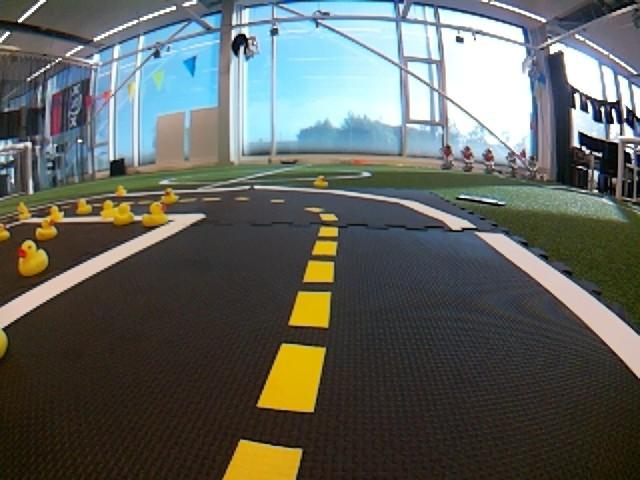Duckies: (17, 241, 47, 276), (142, 204, 170, 226), (112, 204, 135, 223), (37, 221, 57, 240), (100, 201, 120, 219), (160, 188, 178, 204), (45, 208, 63, 222), (75, 200, 91, 213), (312, 175, 328, 188), (0, 223, 9, 241), (18, 209, 32, 220), (116, 186, 127, 196), (16, 203, 27, 211)
